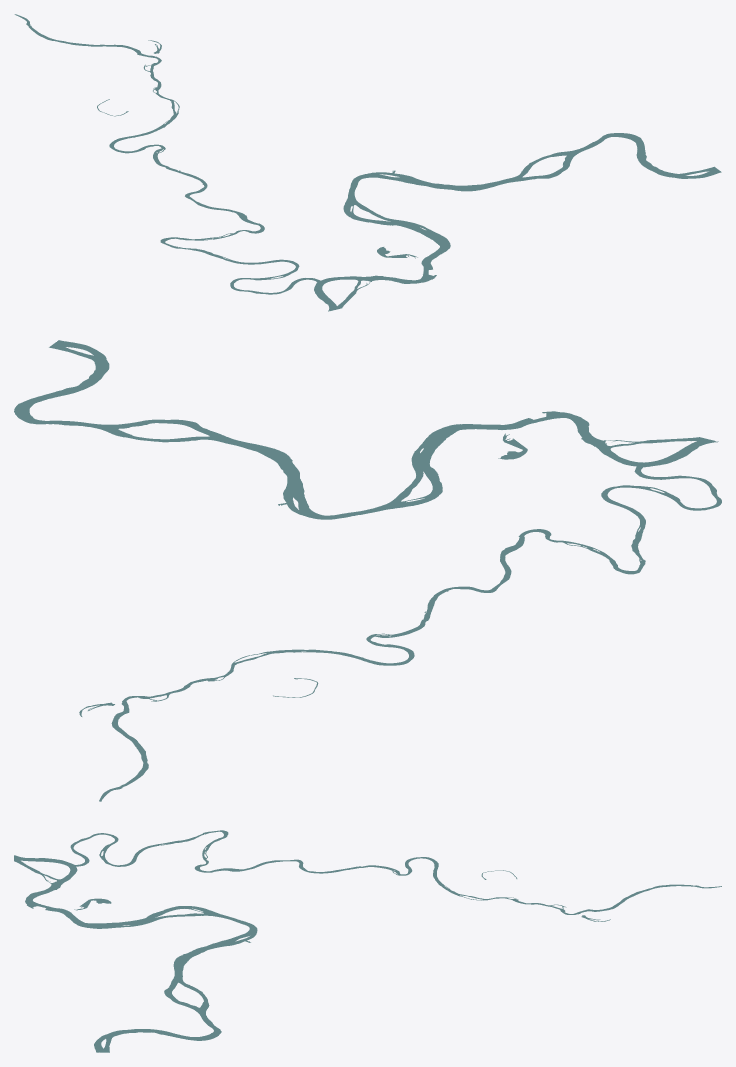
File: rivers.glb
3 views of the same model, one above another, from view 1: azimuth 30°, elevation 25°; view 2: azimuth 150°, elevation 25°; view 3: azimuth 270°, elevation 25° (orthographic). The views are drawn at different scales.
Parts seen in each view (by area): view 1: Ohio Riv, Wabash Riv; view 2: Ohio Riv, Wabash Riv; view 3: Ohio Riv, Wabash Riv.
Boxes of the visible parts, x1,y1,x2,y2 form: Ohio Riv: [314, 133, 721, 311]; Wabash Riv: [14, 14, 320, 294]; Ohio Riv: [14, 340, 718, 519]; Wabash Riv: [99, 466, 721, 801]; Ohio Riv: [14, 855, 257, 1052]; Wabash Riv: [70, 830, 721, 914].
Bounding box in the file's own units: 40420 × 8.85 × 54387.
